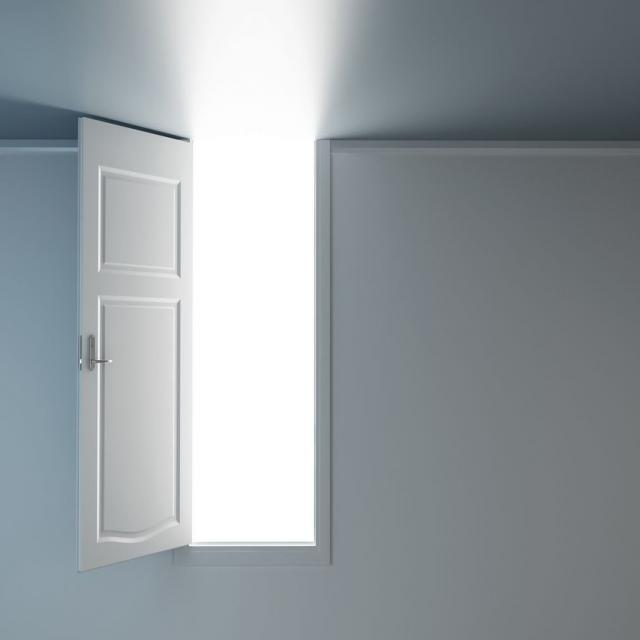open: (80, 110, 332, 562)
